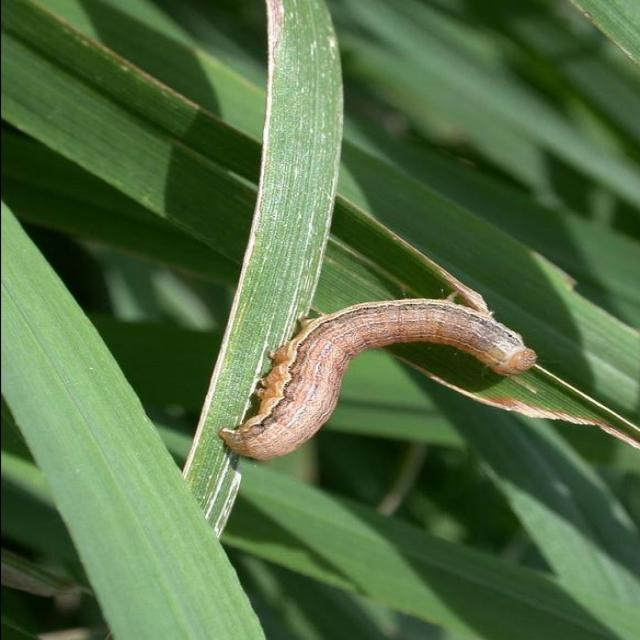army worm: (214, 297, 542, 467)
